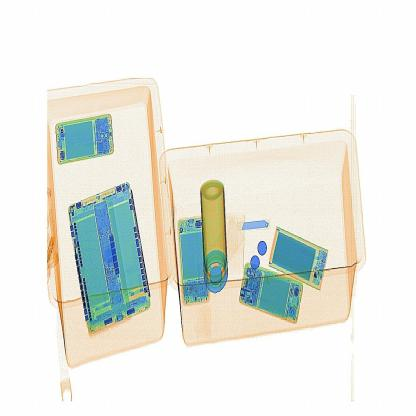pliers: (238, 213, 276, 237)
